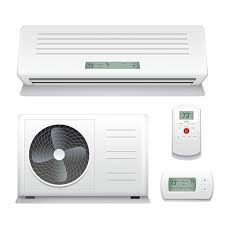ac: (15, 19, 212, 90)
